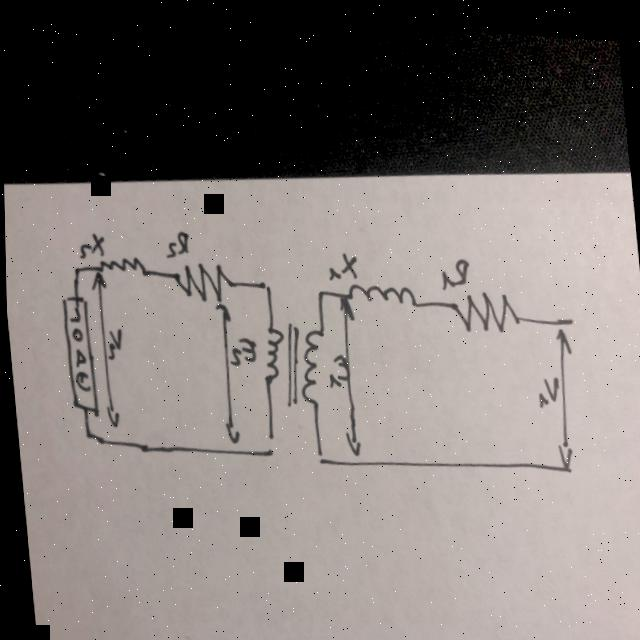inductor: (341, 271, 418, 309), (93, 249, 148, 279)
junction: (262, 434, 276, 455), (68, 257, 82, 278), (255, 269, 269, 289), (76, 418, 90, 438), (313, 277, 326, 298), (311, 441, 324, 462)
resistor: (57, 288, 99, 419), (449, 273, 520, 332), (171, 252, 232, 303)
terminal: (553, 452, 573, 472), (558, 304, 577, 321)
text: (64, 299, 90, 395), (435, 245, 471, 286), (530, 362, 561, 405), (322, 243, 359, 278), (73, 224, 106, 262), (322, 344, 351, 387), (225, 328, 257, 366), (161, 222, 189, 256), (102, 322, 125, 363)
transformer: (256, 312, 333, 411)
